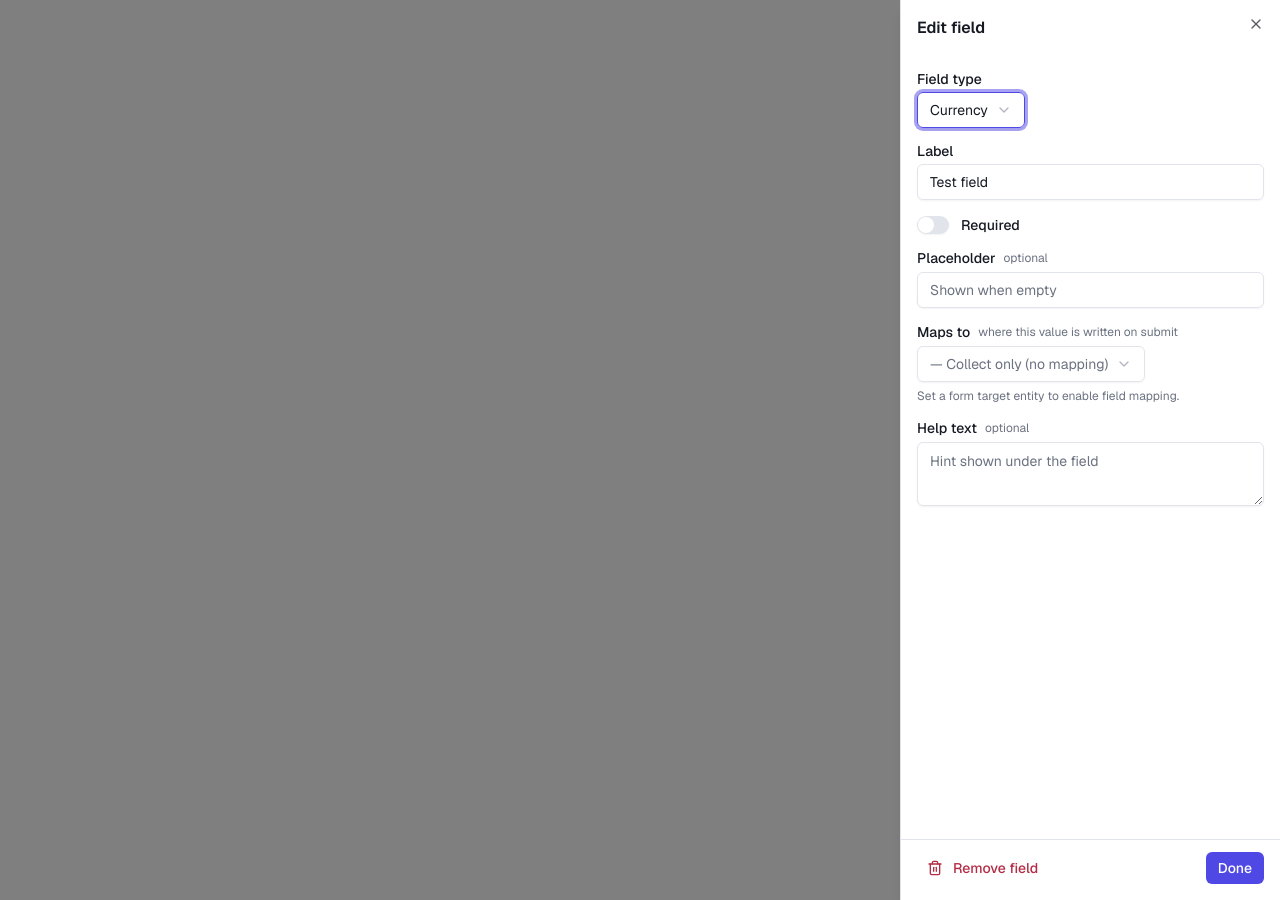
FieldConfigSheet — Maps to filtering › shows no targets when target entity is null
The width and height of the screenshot is (1280, 900).
Click the dropdown named "maps to" at (1031, 364), box [917,346,1145,382]
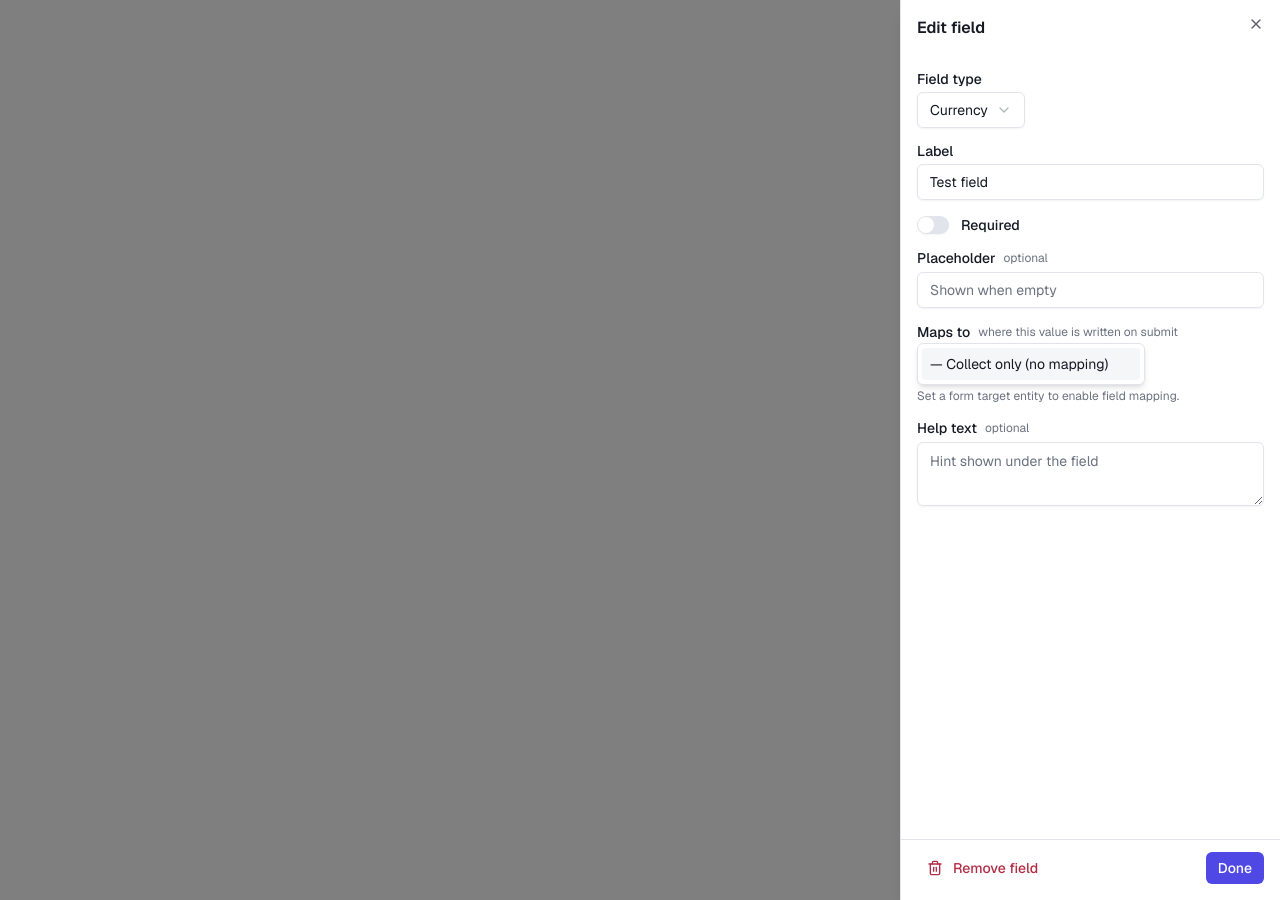
Result: the option "— Collect only (no mapping)" is shown at [922,348,1140,380]
